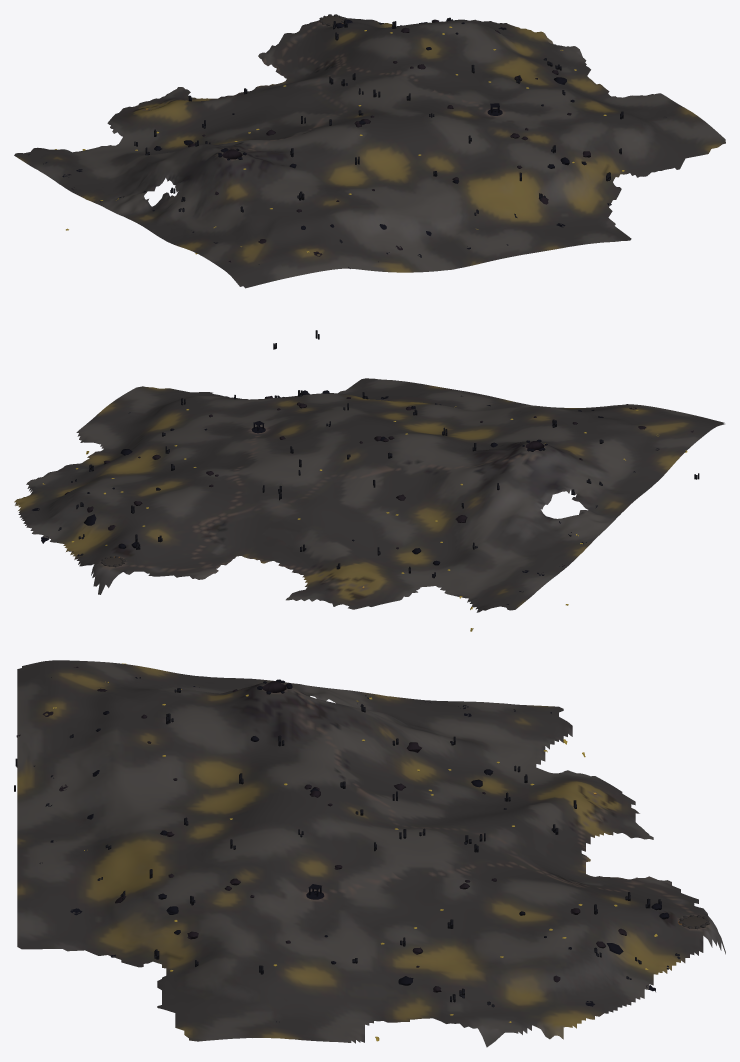
The model's file is ash_isl_vent.glb.
3 views of the same model, one above another, from view 1: azimuth 30°, elevation 25°; view 2: azimuth 150°, elevation 25°; view 3: azimuth 270°, elevation 25° (orthographic). The views are drawn at different scales.
Visible parts, largest first — view 1: ash_isl_vent; view 2: ash_isl_vent; view 3: ash_isl_vent.
Part boxes in pixels (x1,y1,x2,y2): ash_isl_vent: (14, 14, 725, 349); ash_isl_vent: (14, 378, 724, 631); ash_isl_vent: (14, 660, 725, 1047).
Bounding box in the file's own units: 341 × 59.43 × 316.
